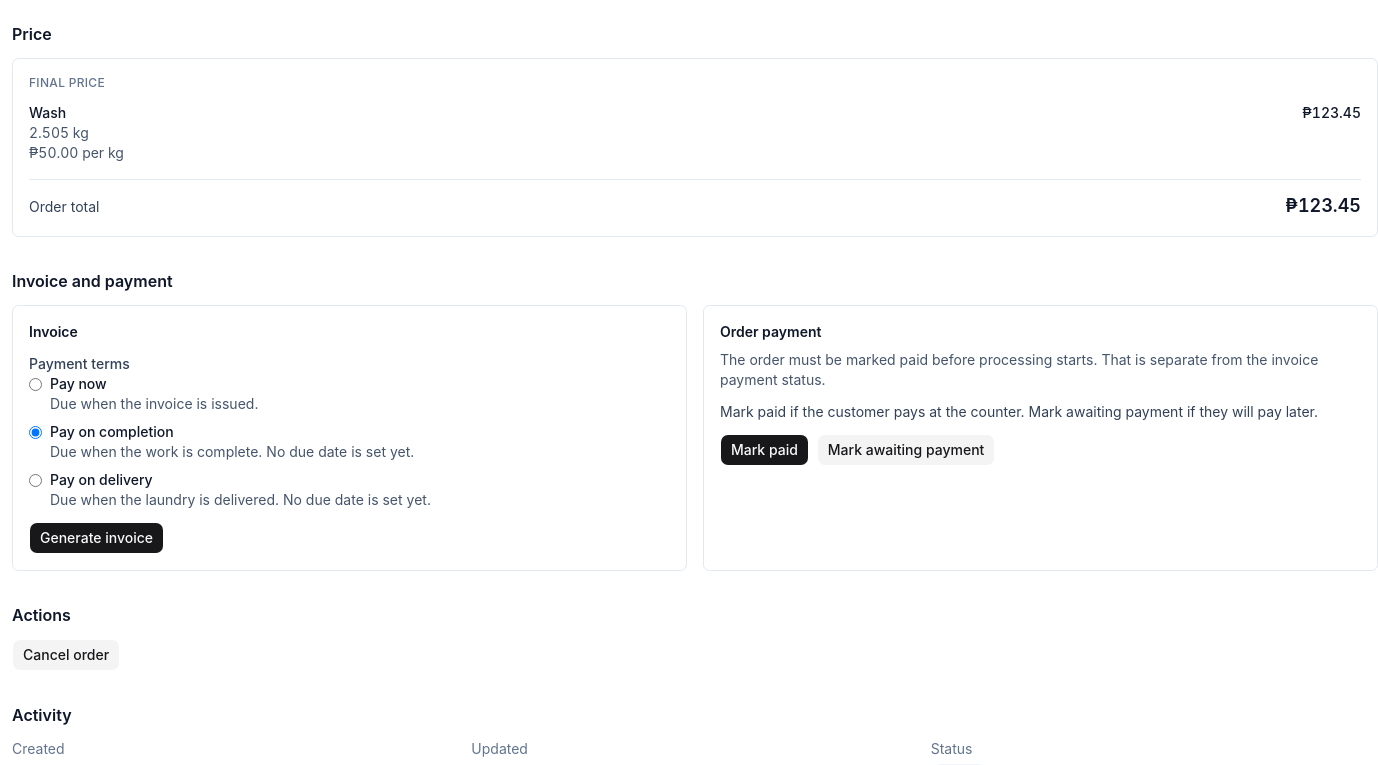
order page invoice and payment (#166) › generate › case 1: sends the chosen terms and laundry order id only, toasts, and refetches the invoice
The image size is (1378, 765).
(page scrolled)
Expected: the element with id "laundry-order-invoice" is shown, [12,269,1377,571]
Click the radio button labelled "Pay now".
click(36, 384)  # box [29,378,42,391]
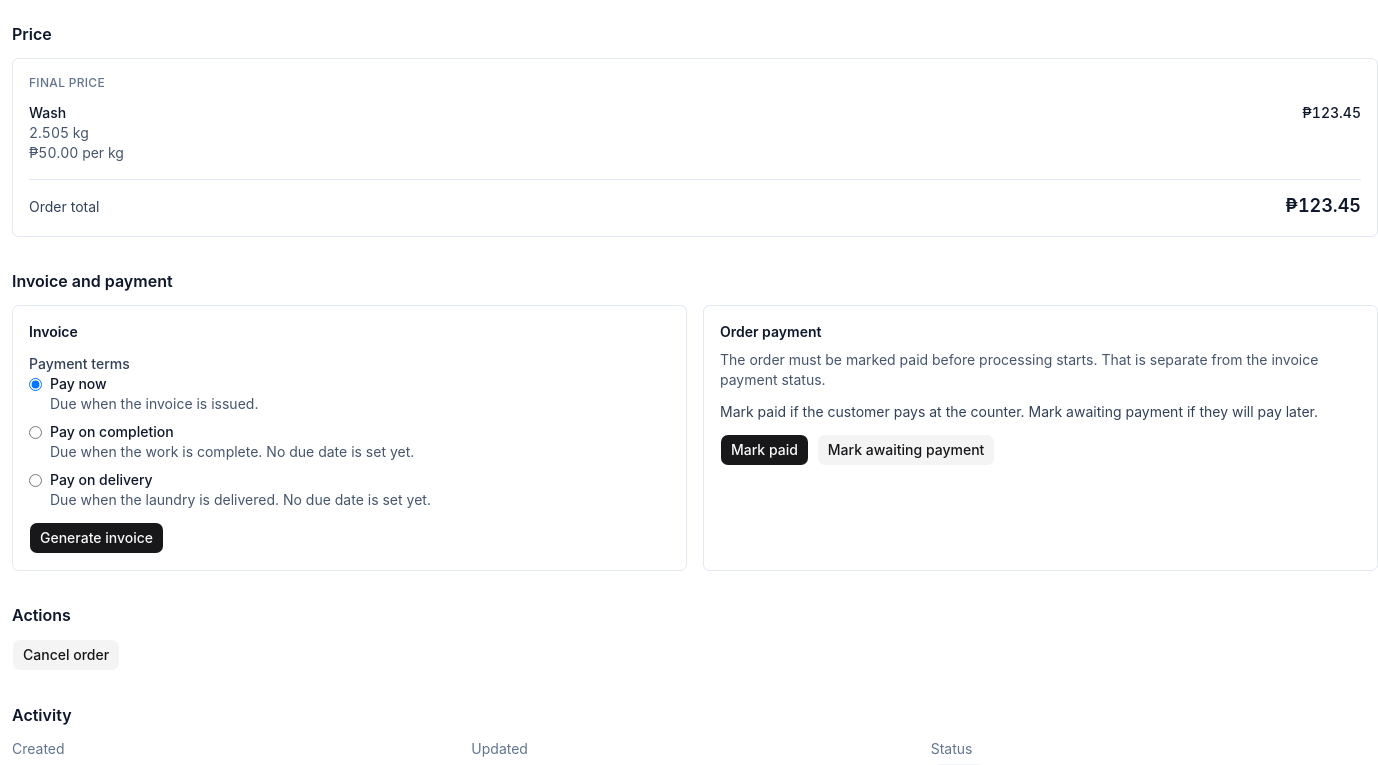
Expected: the element with id "laundry-order-invoice" is shown, [12,269,1377,571]
Click the button "Generate invoice".
click(96, 538)  # box [29,522,164,554]
(page scrolled)
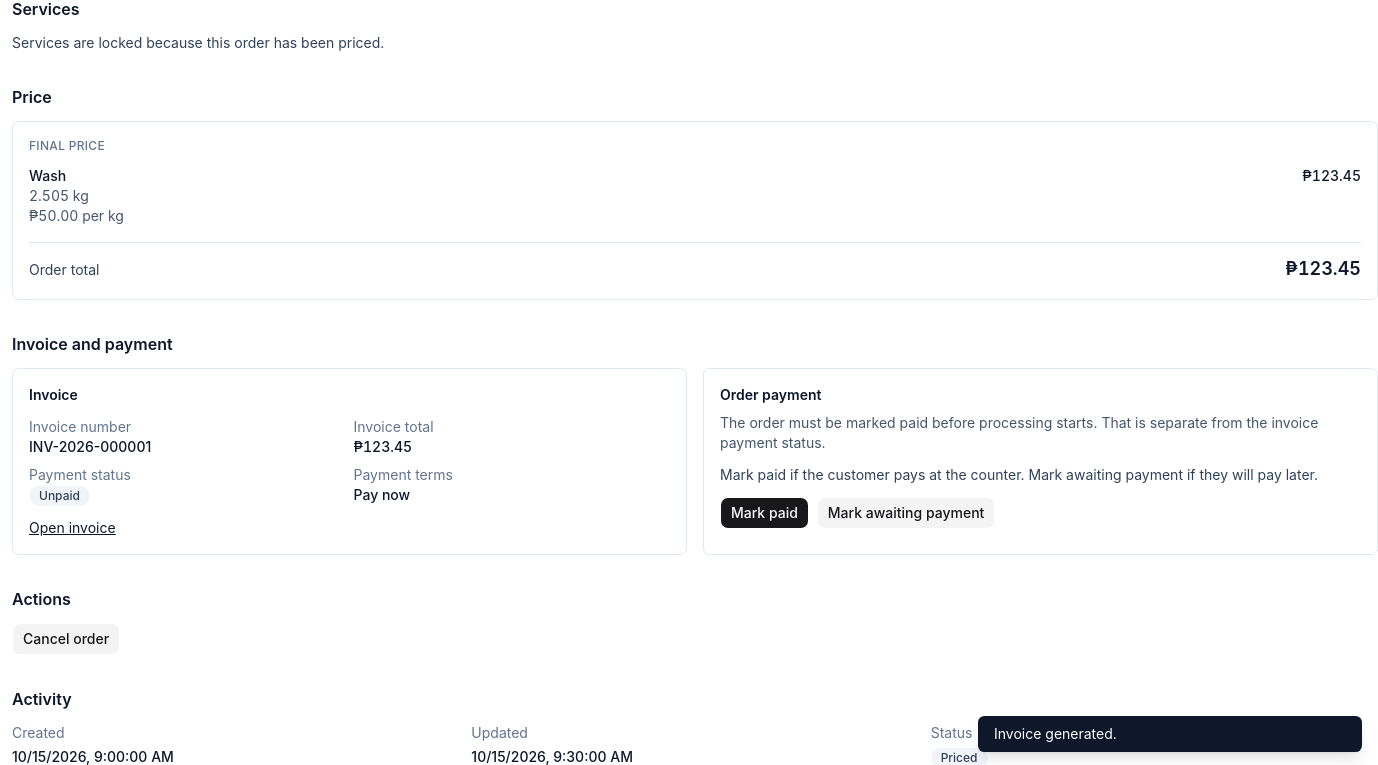
Expected: the text "Invoice generated." is shown, [978,716,1362,752]
Expected: the element with id "laundry-order-invoice" shows "INV-2026-000001", [29,438,151,455]
Expected: the element with id "laundry-order-invoice" shows "Unpaid", [39,488,80,503]
